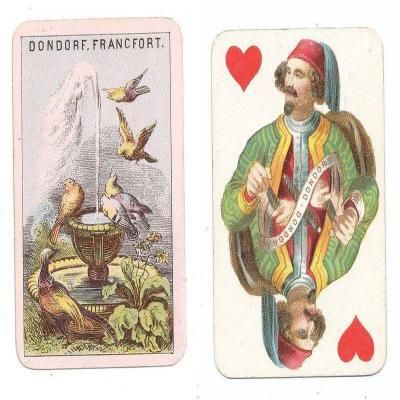graphics: (210, 24, 390, 380), (13, 18, 186, 371)
